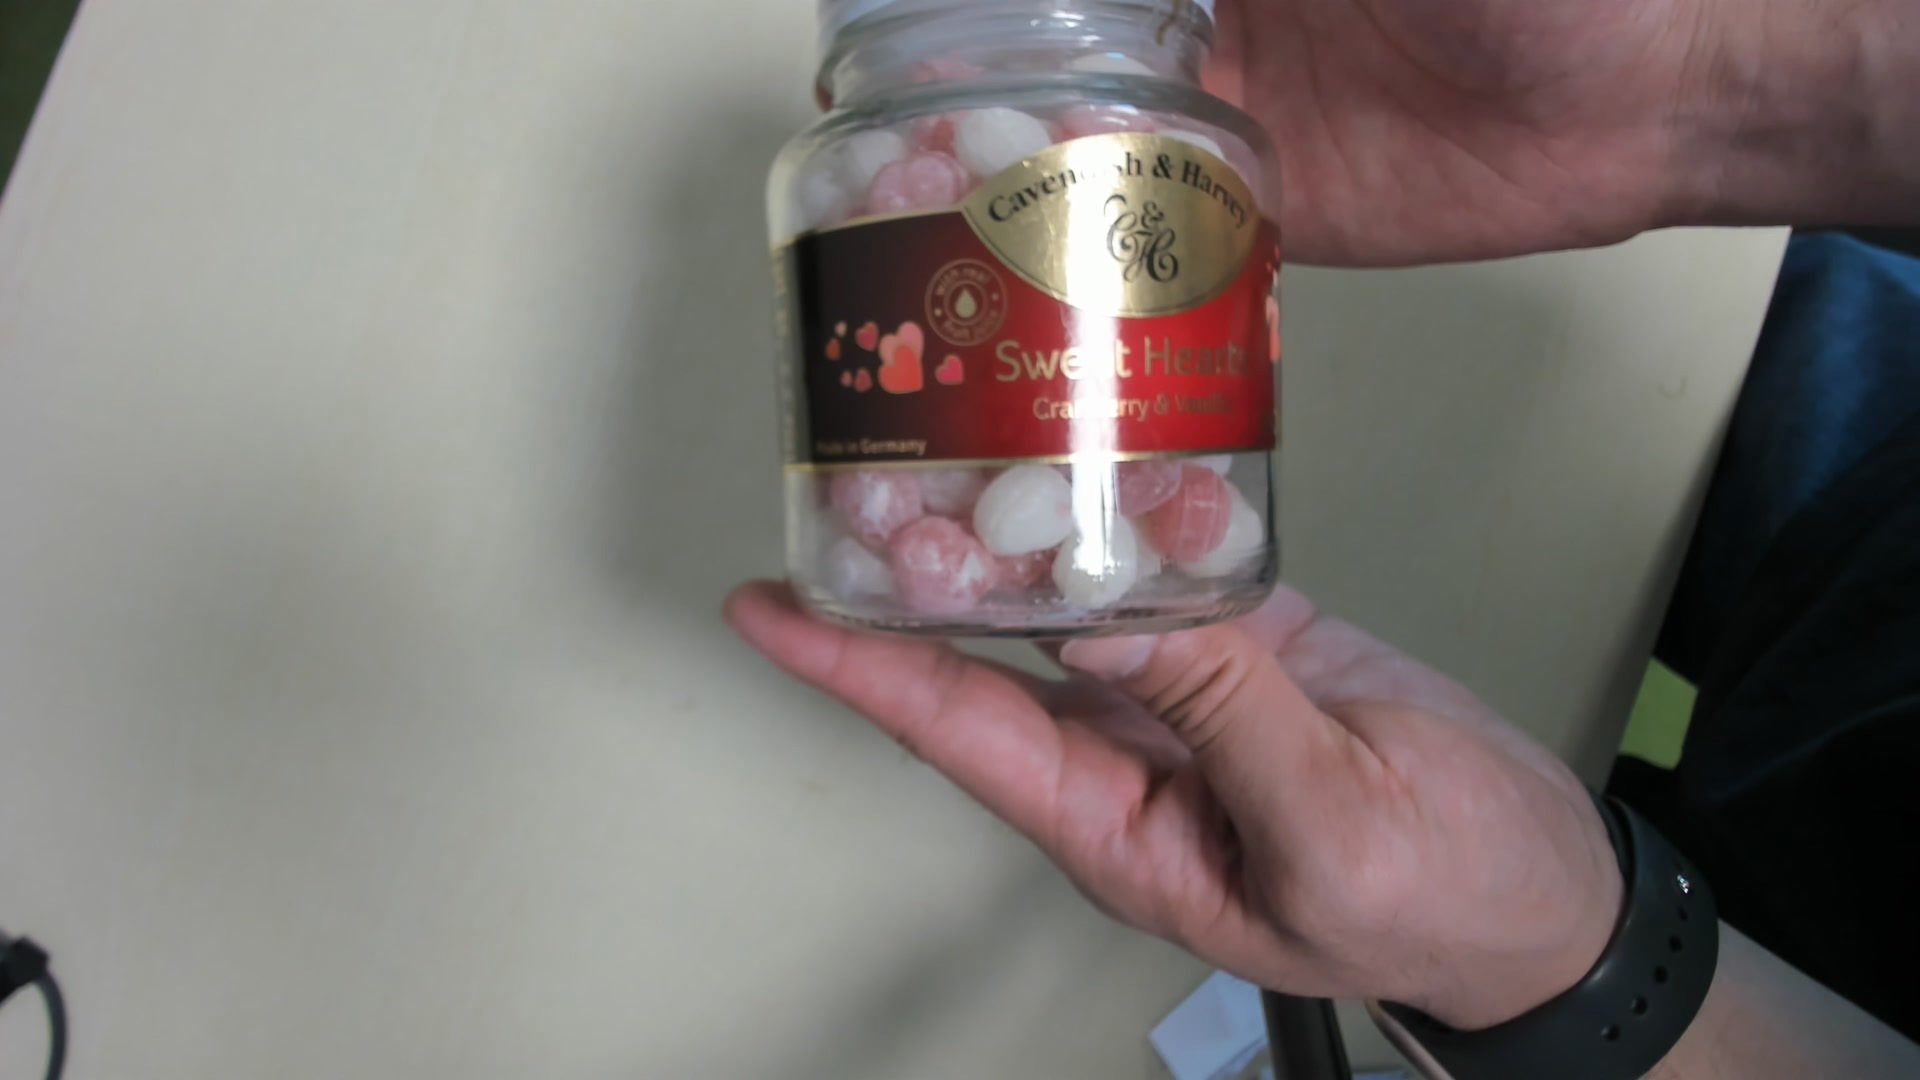SweetsChocolatesOthers_300-399g_NonHalal_Nonhealthy: (767, 7, 1287, 640)
